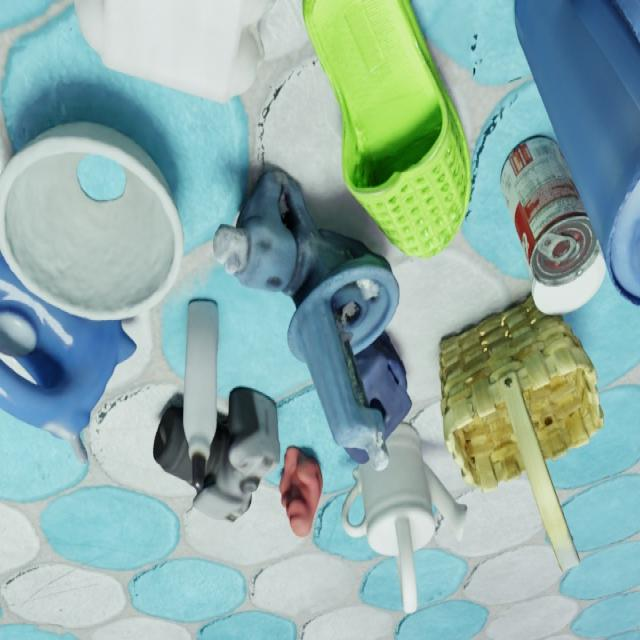Other Objects: (214, 168, 399, 469), (442, 297, 604, 567), (304, 1, 471, 257), (516, 1, 640, 305), (1, 123, 183, 320), (154, 301, 279, 523), (1, 255, 137, 437), (501, 137, 605, 313), (184, 301, 219, 481), (230, 389, 280, 479), (280, 448, 322, 537)
